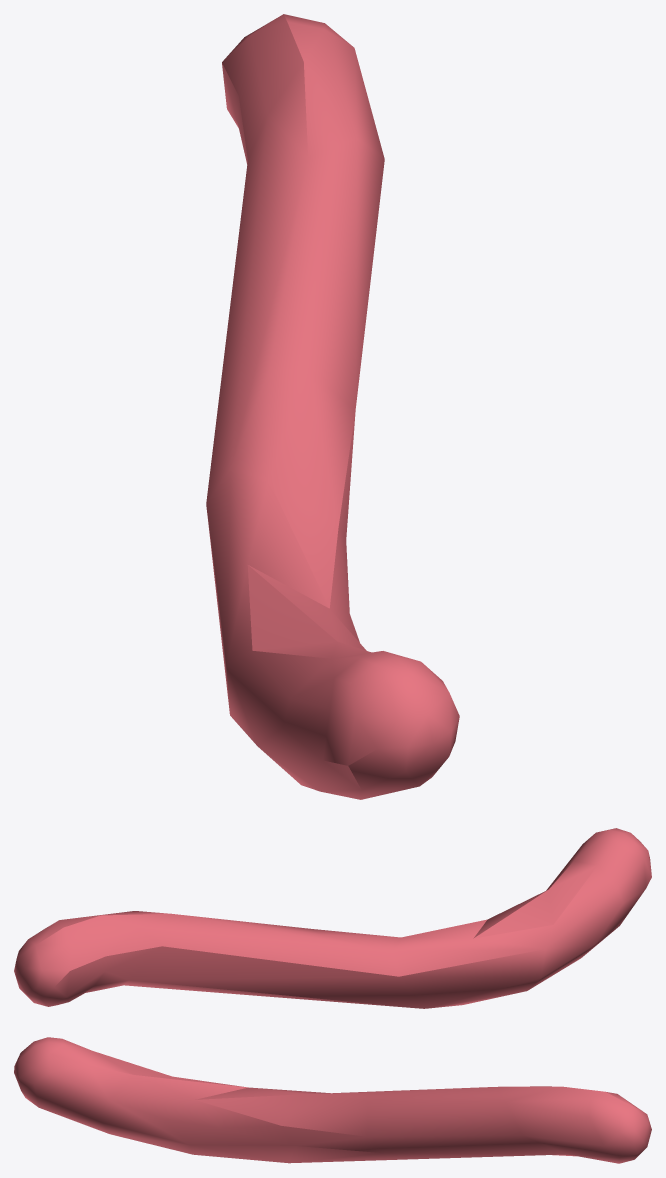
Rendered from fma50085_fj1713.glb.
3 renders of one model, top to bottom at view 1: azimuth 30°, elevation 25°; view 2: azimuth 150°, elevation 25°; view 3: azimuth 270°, elevation 25°, orthographic. The views are drawn at different scales.
Visible parts, largest first — view 1: FMA50085_FJ1713; view 2: FMA50085_FJ1713; view 3: FMA50085_FJ1713.
Boxes of the visible parts, left/top/right/bottom form: FMA50085_FJ1713: left=206, top=14, right=459, bottom=799; FMA50085_FJ1713: left=14, top=828, right=651, bottom=1008; FMA50085_FJ1713: left=14, top=1037, right=651, bottom=1163.
Bounding box in the file's own units: 0.00711 × 0.00368 × 0.0134.
